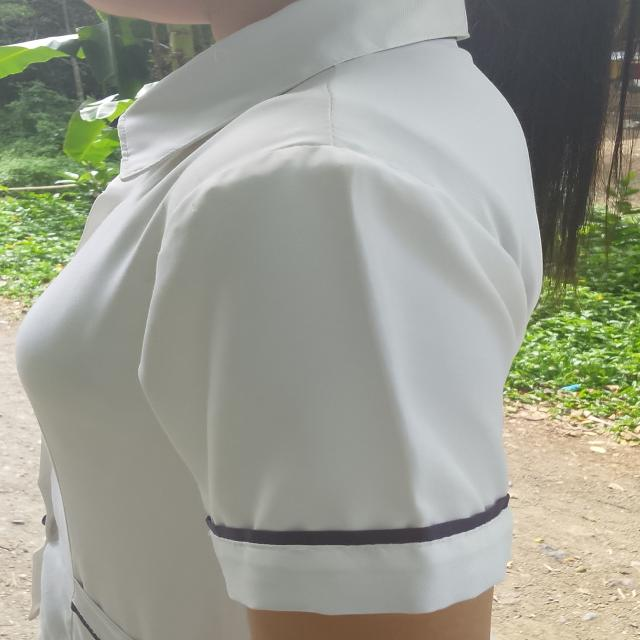education_female_uniform: (1, 1, 601, 640)
